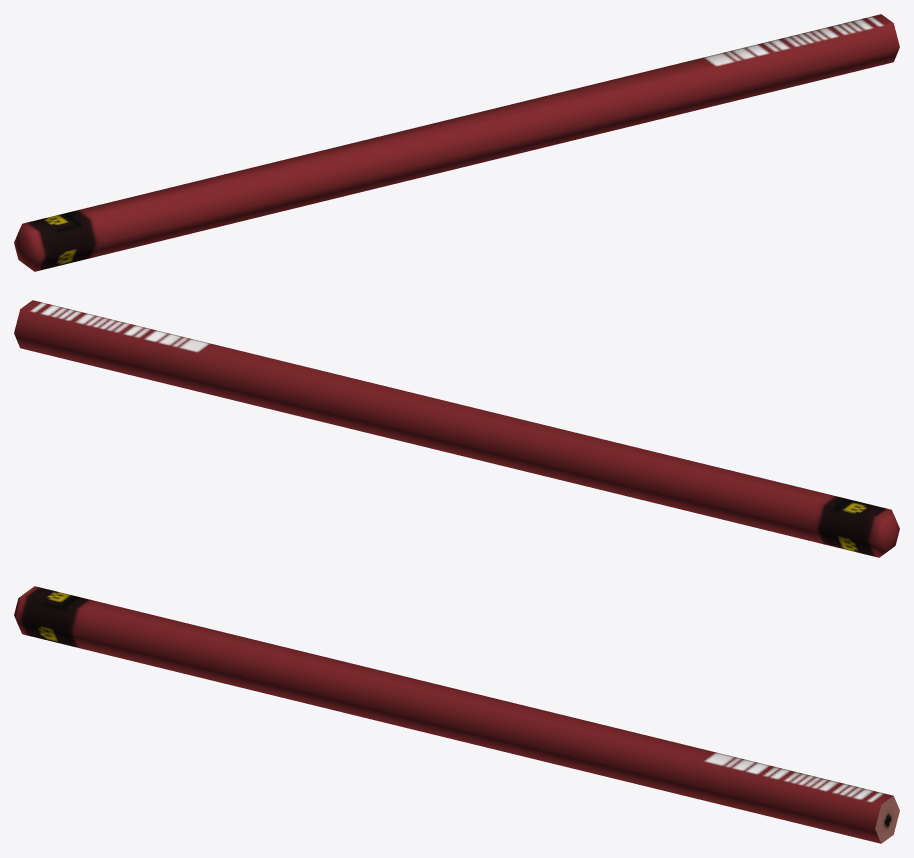
Rendered from Pencil.fbx.
3 views of the same model, one above another, from view 1: azimuth 30°, elevation 25°; view 2: azimuth 150°, elevation 25°; view 3: azimuth 330°, elevation 25° (orthographic).
Visible parts, largest first — view 1: Pencil_geo; view 2: Pencil_geo; view 3: Pencil_geo.
Part boxes in pixels (<box>): Pencil_geo: <box>14,14,899,271</box>; Pencil_geo: <box>14,300,899,557</box>; Pencil_geo: <box>14,586,899,843</box>.
Bounding box in the file's own units: 20.2 × 0.866 × 1.
